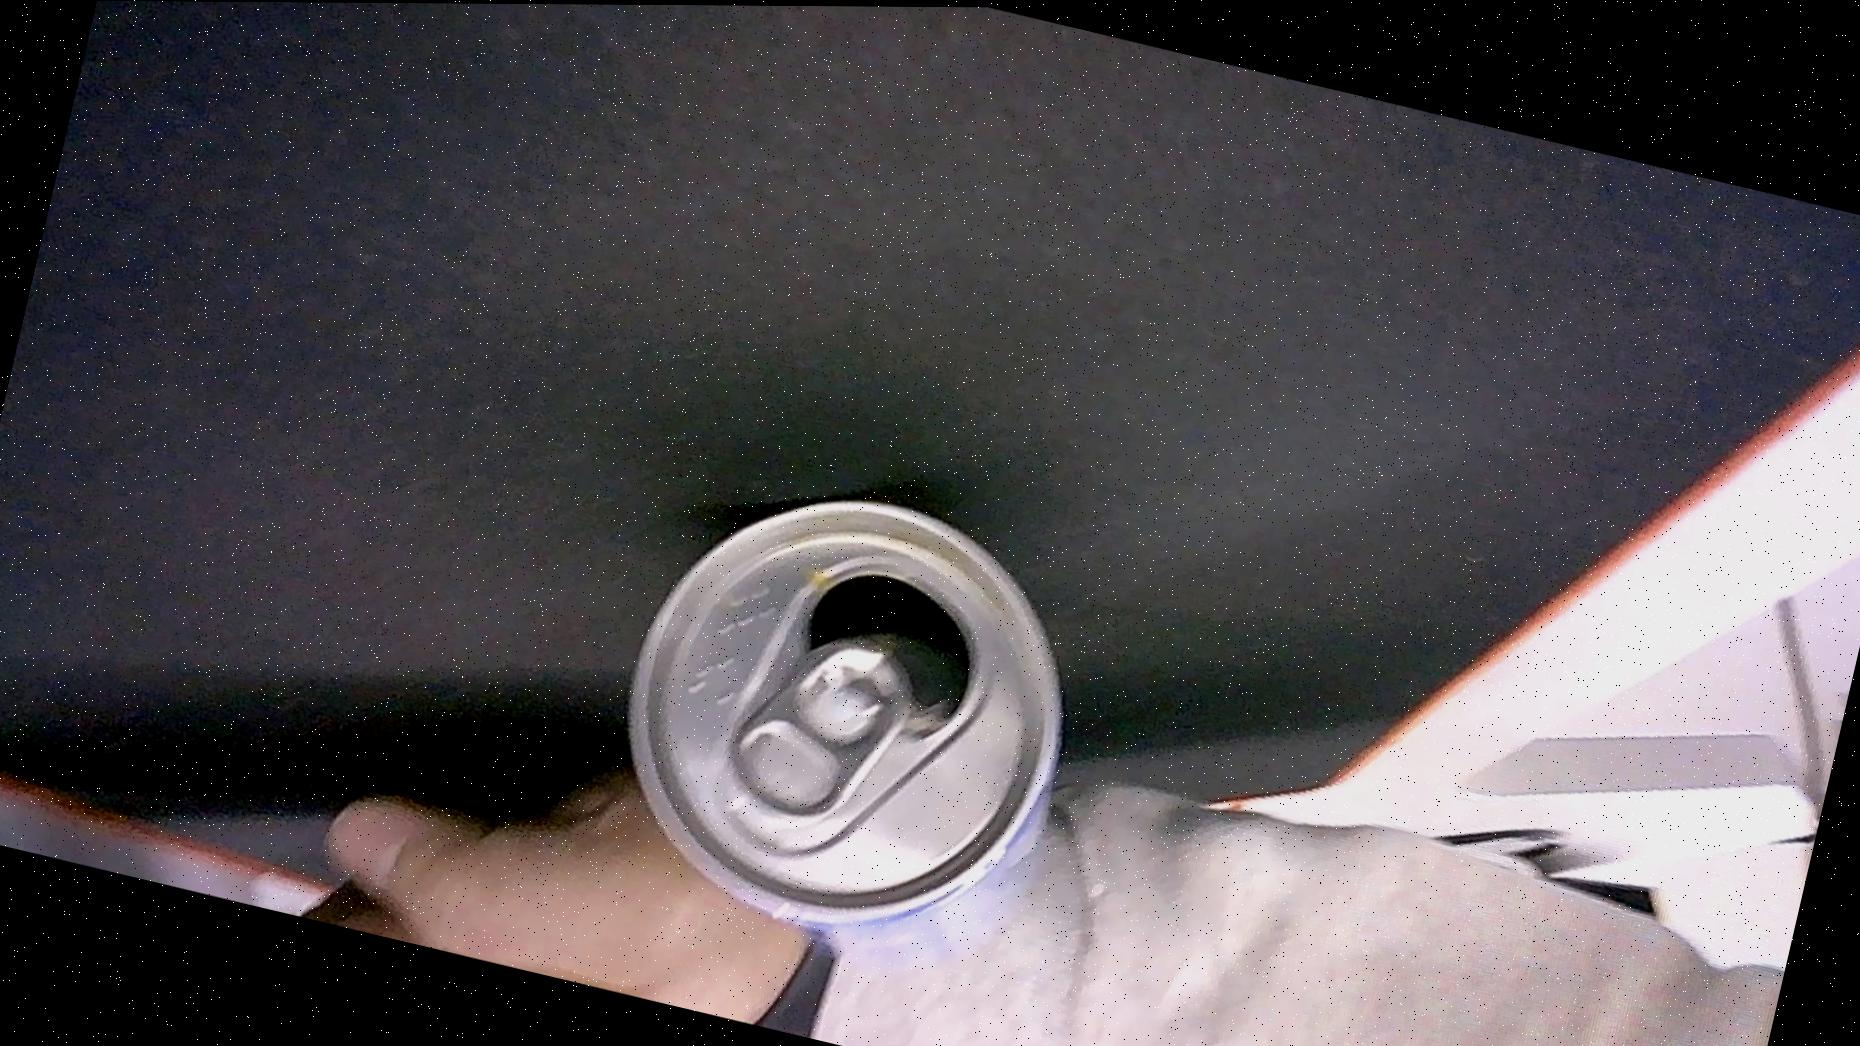letsbe: (580, 451, 1109, 1000)
